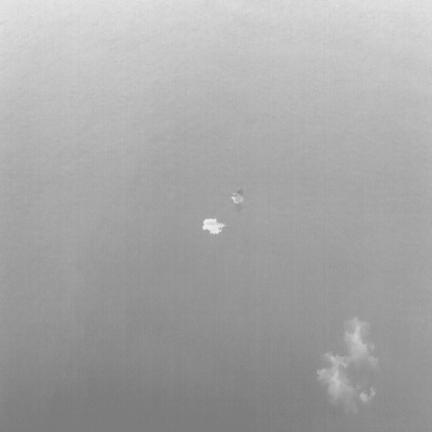flukeprints: (317, 317, 377, 412), (202, 219, 226, 234), (232, 191, 243, 205)
